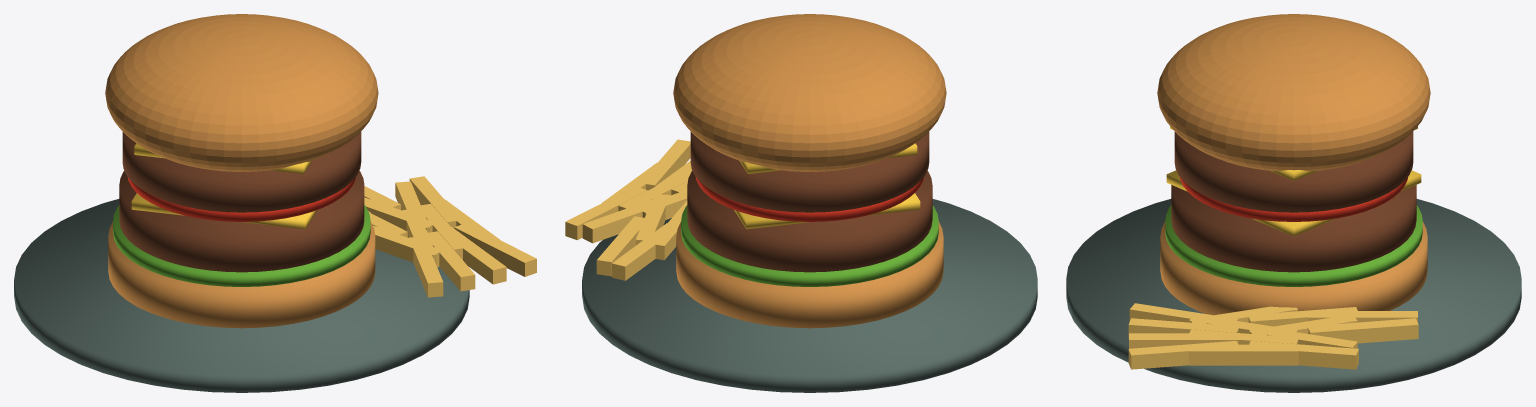
File: burger.glb
The picture shows the model from 3 angles, left to right: view 1: azimuth 30°, elevation 25°; view 2: azimuth 150°, elevation 25°; view 3: azimuth 270°, elevation 25°; orthographic projection.
Parts seen in each view (by area): view 1: Plate, Top Brioche, Wagyu Patty, Bottom Bun, Wagyu Patty 2, Lettuce, Tomato, Cube.003, Cube.002, Cube.001, Cube.004, Cube (+8 smaller); view 2: Plate, Top Brioche, Wagyu Patty, Bottom Bun, Wagyu Patty 2, Lettuce, Tomato, Cube.010, Cube.012, Cube.013, Cube.011, Cube.003 (+8 smaller); view 3: Top Brioche, Plate, Wagyu Patty, Wagyu Patty 2, Bottom Bun, Lettuce, Cube.007, Tomato, Cube.013, Cube.003, Cube.011, Cube.002 (+10 smaller).
Boxes of the visible parts, <box> form: Plate: <box>14,199,469,392</box>; Top Brioche: <box>105,14,378,171</box>; Wagyu Patty: <box>119,170,364,272</box>; Bottom Bun: <box>108,222,375,328</box>; Wagyu Patty 2: <box>122,131,361,212</box>; Lettuce: <box>113,205,370,286</box>; Tomato: <box>127,177,355,221</box>; Cube.003: <box>454,223,536,276</box>; Cube.002: <box>438,227,506,284</box>; Cube.001: <box>424,231,475,291</box>; Cube.004: <box>373,225,442,267</box>; Cube: <box>409,236,443,297</box>; Plate: <box>582,199,1037,392</box>; Top Brioche: <box>673,14,946,171</box>; Wagyu Patty: <box>687,170,932,272</box>; Bottom Bun: <box>676,221,943,328</box>; Wagyu Patty 2: <box>690,131,929,212</box>; Lettuce: <box>681,205,938,286</box>; Tomato: <box>696,177,923,221</box>; Cube.010: <box>582,194,674,243</box>; Cube.012: <box>612,223,678,280</box>; Cube.013: <box>596,216,648,276</box>; Cube.011: <box>565,187,647,240</box>; Cube.003: <box>640,139,690,190</box>; Top Brioche: <box>1157,14,1430,171</box>; Plate: <box>1066,199,1521,392</box>; Wagyu Patty: <box>1171,185,1416,272</box>; Wagyu Patty 2: <box>1174,132,1413,212</box>; Bottom Bun: <box>1160,221,1427,315</box>; Lettuce: <box>1165,205,1422,286</box>; Cube.007: <box>1188,344,1298,365</box>; Tomato: <box>1180,177,1407,221</box>; Cube.013: <box>1308,318,1418,343</box>; Cube.003: <box>1128,341,1239,369</box>; Cube.011: <box>1249,341,1358,369</box>; Cube.002: <box>1129,333,1238,348</box>.
Size of the model in its own units: 0.302 by 0.181 by 0.29.
